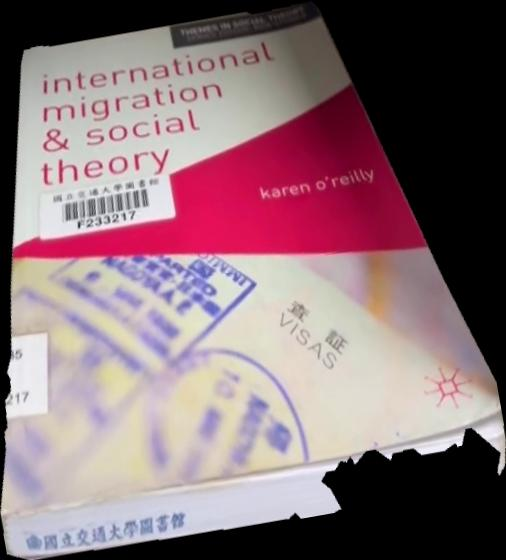flat: (1, 1, 506, 560)
